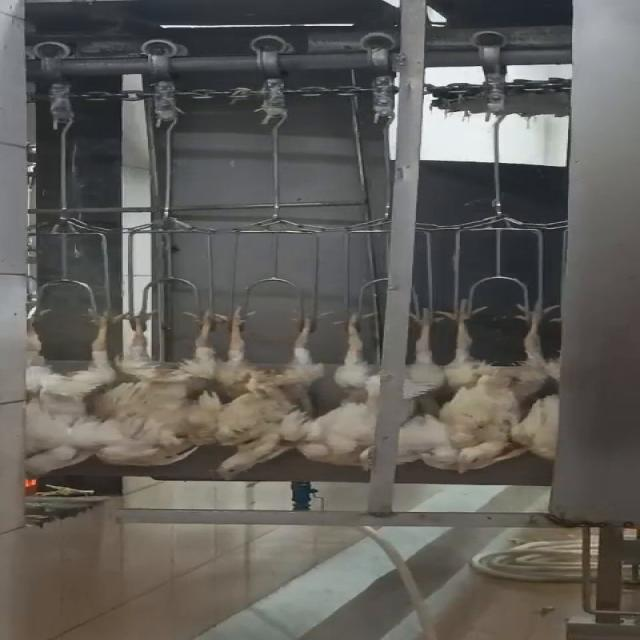chicken: (409, 298, 557, 476), (0, 301, 141, 482), (298, 304, 442, 471), (204, 302, 328, 484), (96, 301, 221, 467)
